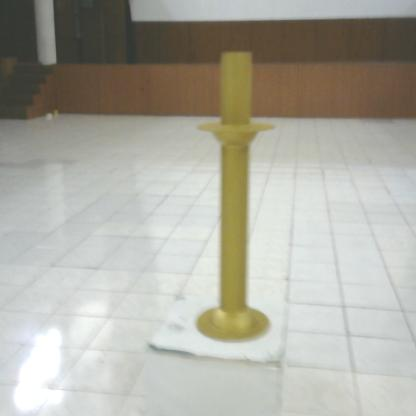pole: (193, 47, 280, 347)
